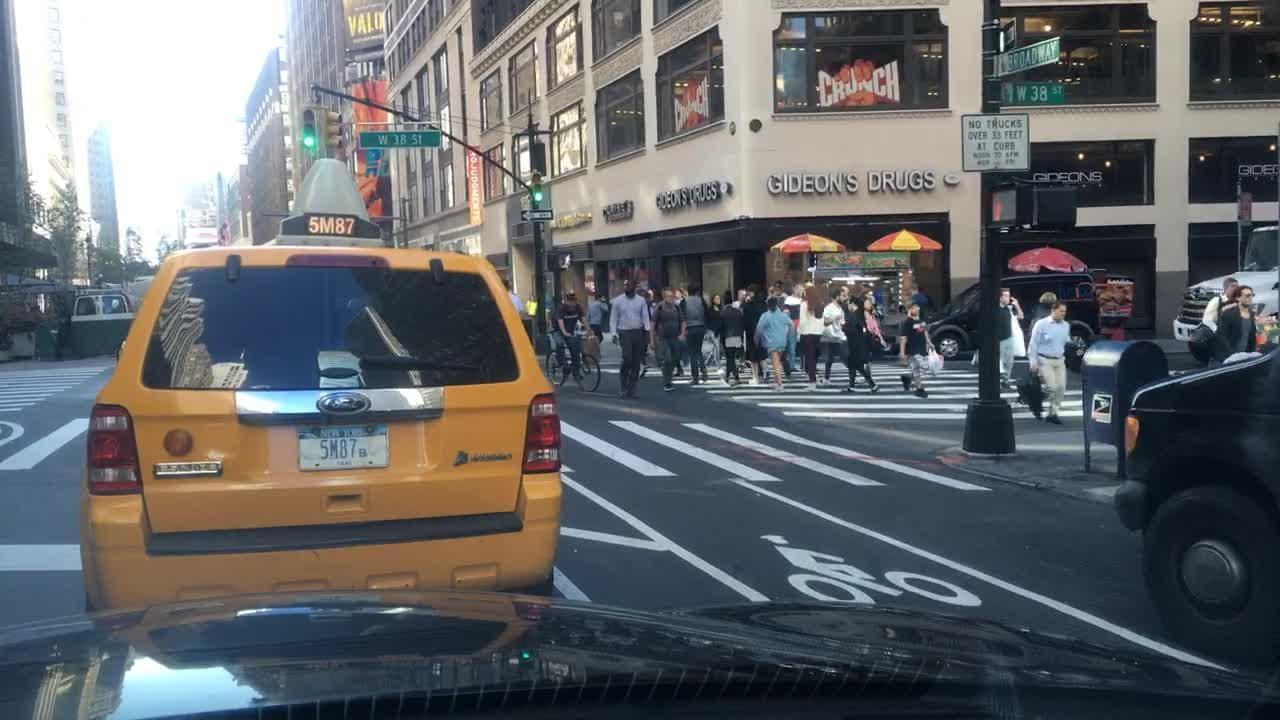ford: (308, 389, 390, 429)
